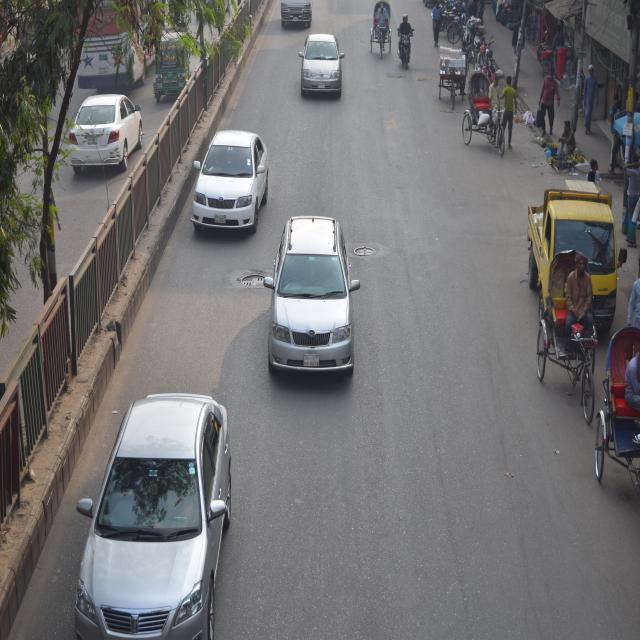car: (71, 374, 241, 640), (261, 207, 372, 396), (512, 178, 630, 332), (184, 119, 273, 237), (292, 22, 350, 110), (274, 0, 319, 26)
